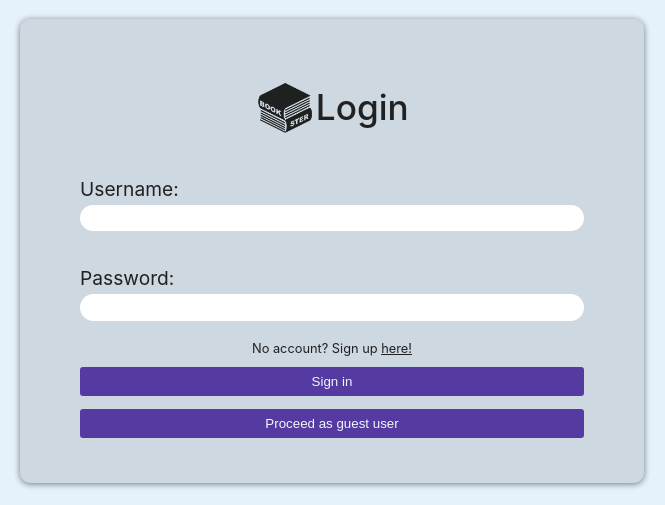
Test: Should login a user and store the JWT token
This screenshot has width=665, height=505.
In the field labelled "Username:": (332, 218) 80,205 -> 584,231, type "testuser"
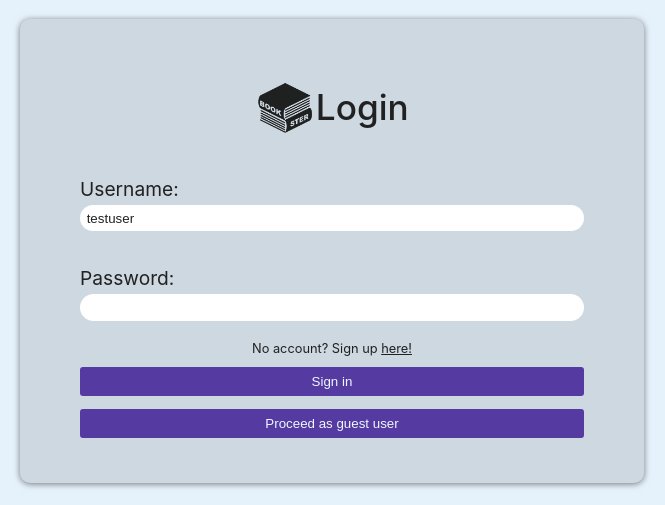
In the password field labelled "Password:": (332, 308) 80,294 -> 584,321, type "testpassword"
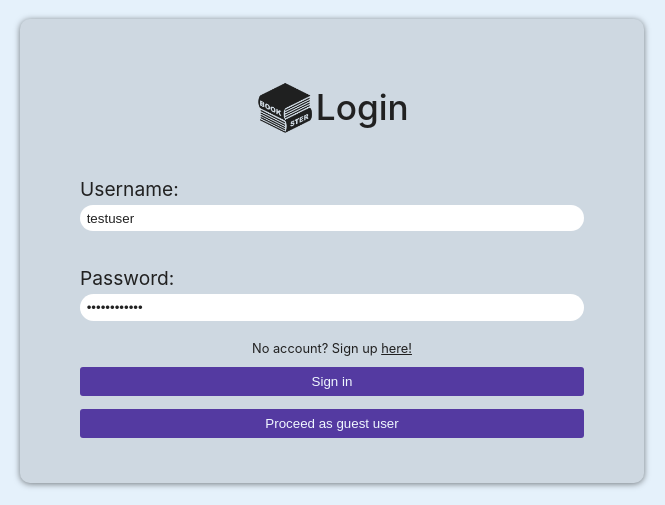
Click the button "Sign in": (332, 381) 80,367 -> 584,396
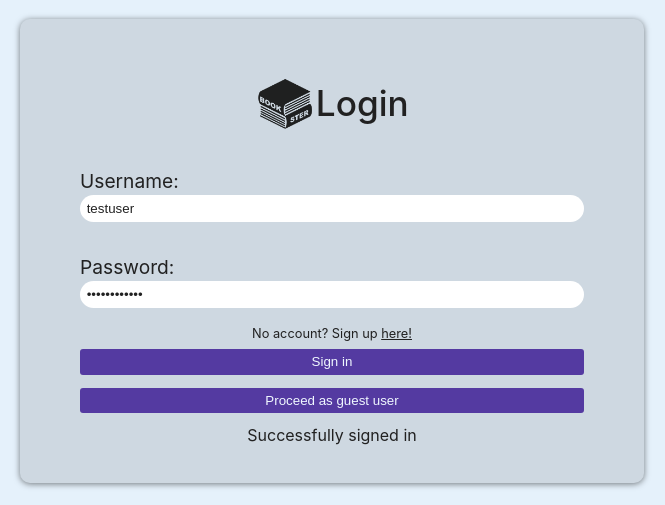
Check: the text "Successfully signed in" is shown, box 247,427 -> 417,451
